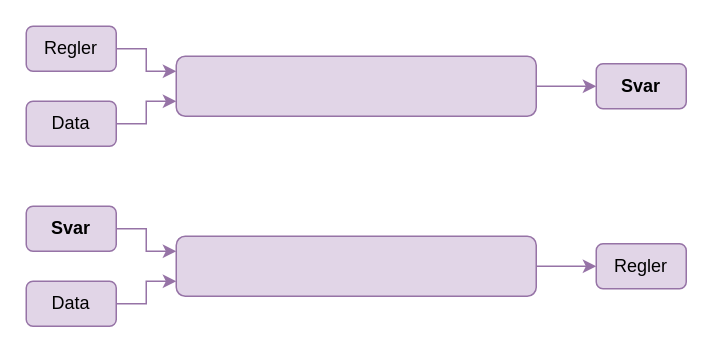
The diagram is 713 pixels wide and 353 high, and some of its shapes have lost their labels. The centre of each missing label's shape, as x and y in pixels:
"Machine Learning" goes at point 355,265.
"Programming" goes at point 355,85.
